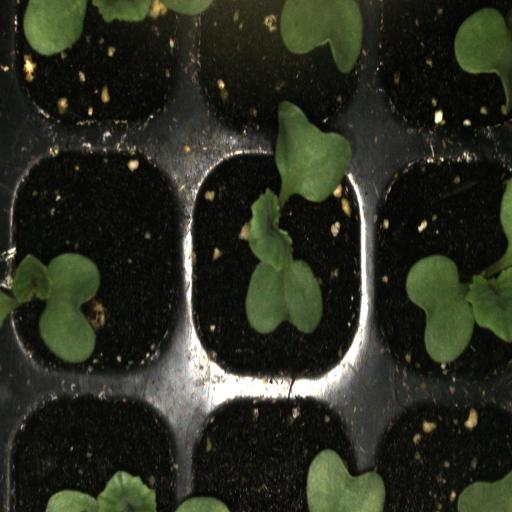seedling: (183, 135, 370, 398), (368, 133, 512, 394)
